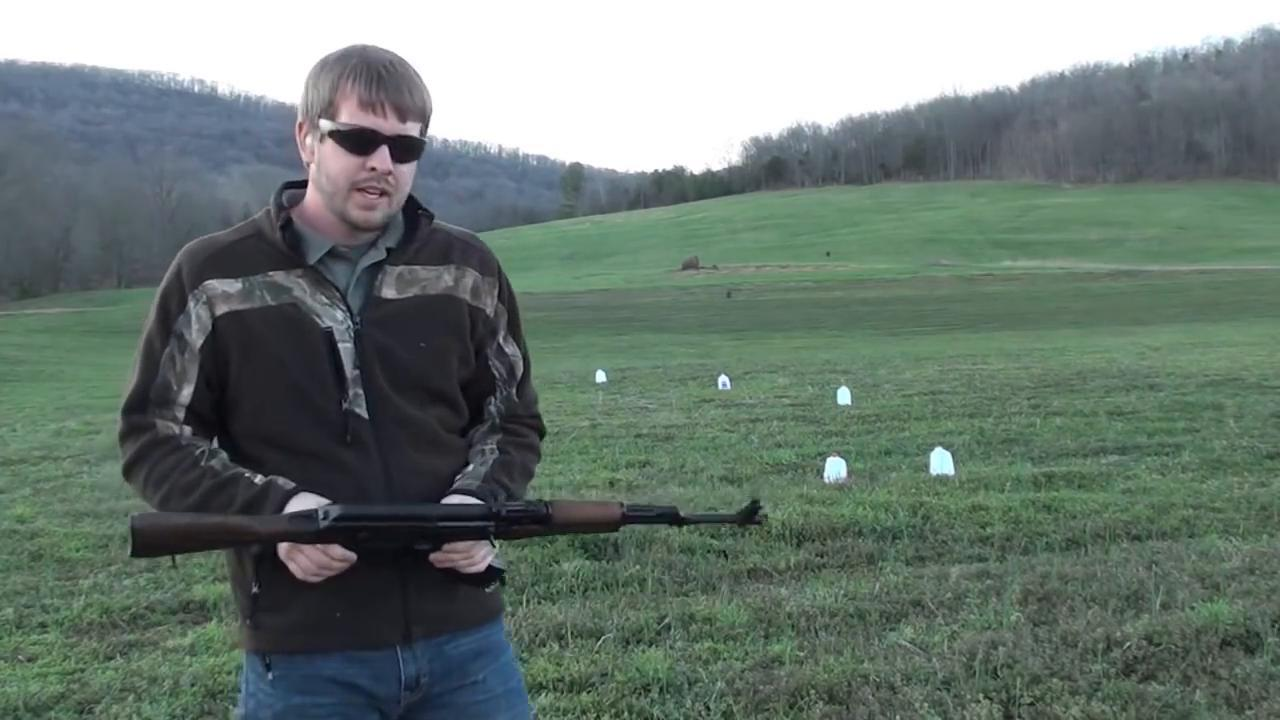AK47 Rifle: (129, 498, 772, 589)
